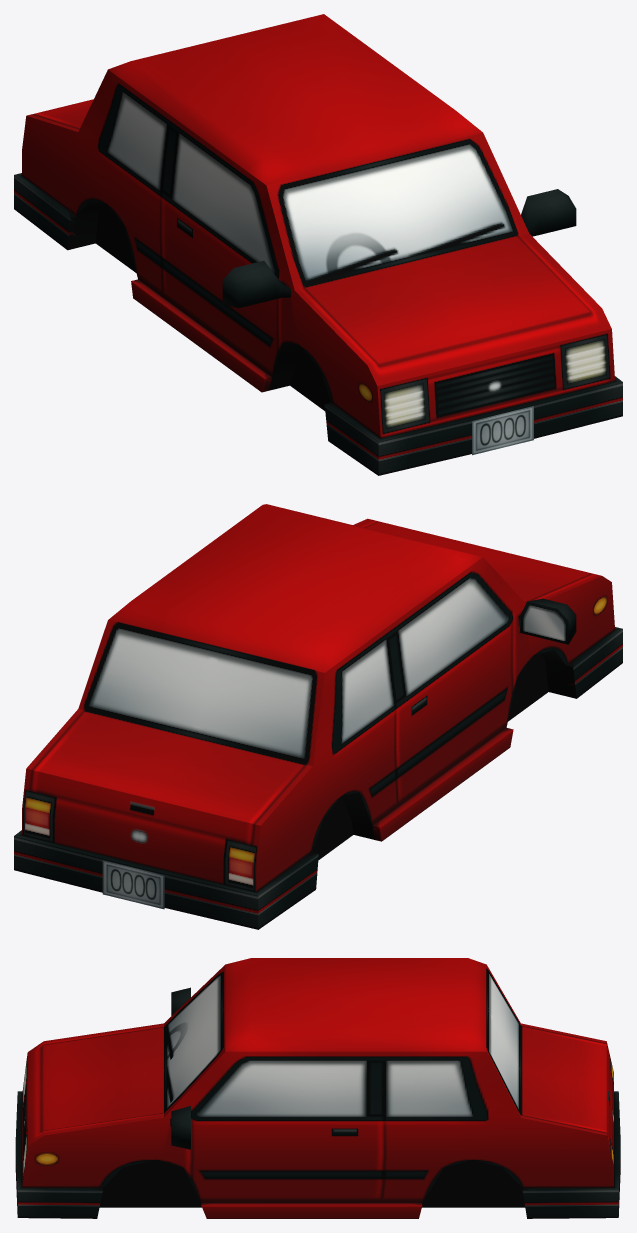
The model's file is car_body.FBX.
3 renders of one model, top to bottom at view 1: azimuth 30°, elevation 25°; view 2: azimuth 150°, elevation 25°; view 3: azimuth 270°, elevation 25°, orthographic. The views are drawn at different scales.
Parts seen in each view (by area): view 1: car_body; view 2: car_body; view 3: car_body.
Part boxes in pixels (left/top/right/bottom): car_body: left=14, top=14, right=622, bottom=475; car_body: left=14, top=504, right=622, bottom=929; car_body: left=15, top=958, right=620, bottom=1218.
Bounding box in the file's own units: 49.1 × 28.27 × 90.8.
